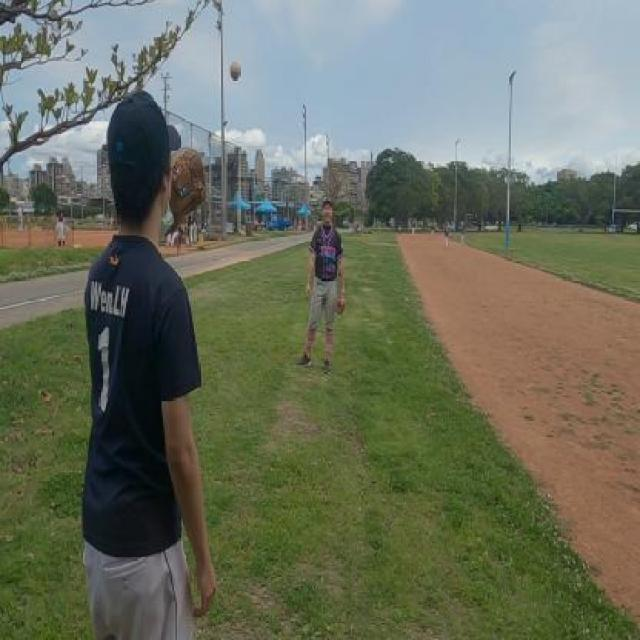baseball: (229, 59, 242, 81)
